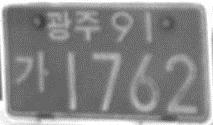1: (63, 50, 80, 113), (142, 10, 154, 43)
2: (164, 52, 200, 116)
6: (127, 52, 161, 114)
7: (90, 50, 123, 114)
9: (110, 10, 135, 42)
가: (13, 50, 49, 95)
광주_O: (45, 9, 101, 41)
